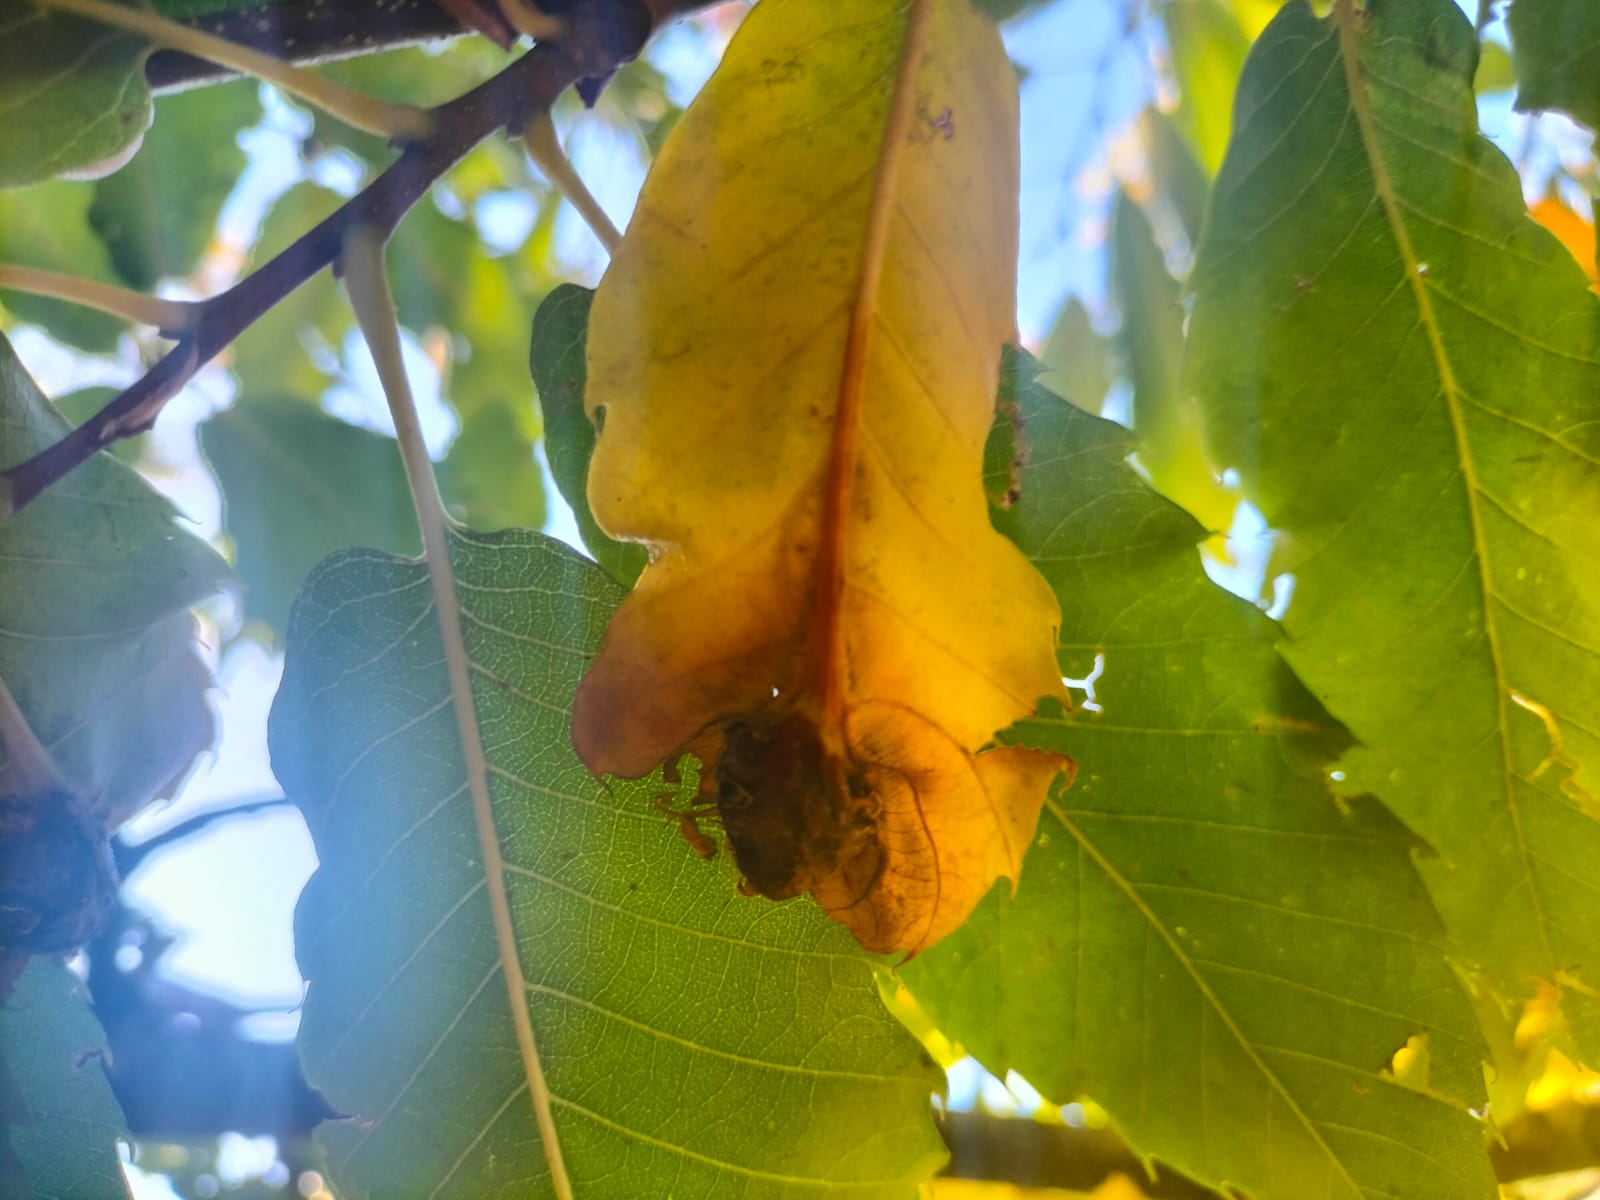galarisi: (580, 463, 963, 1041)
